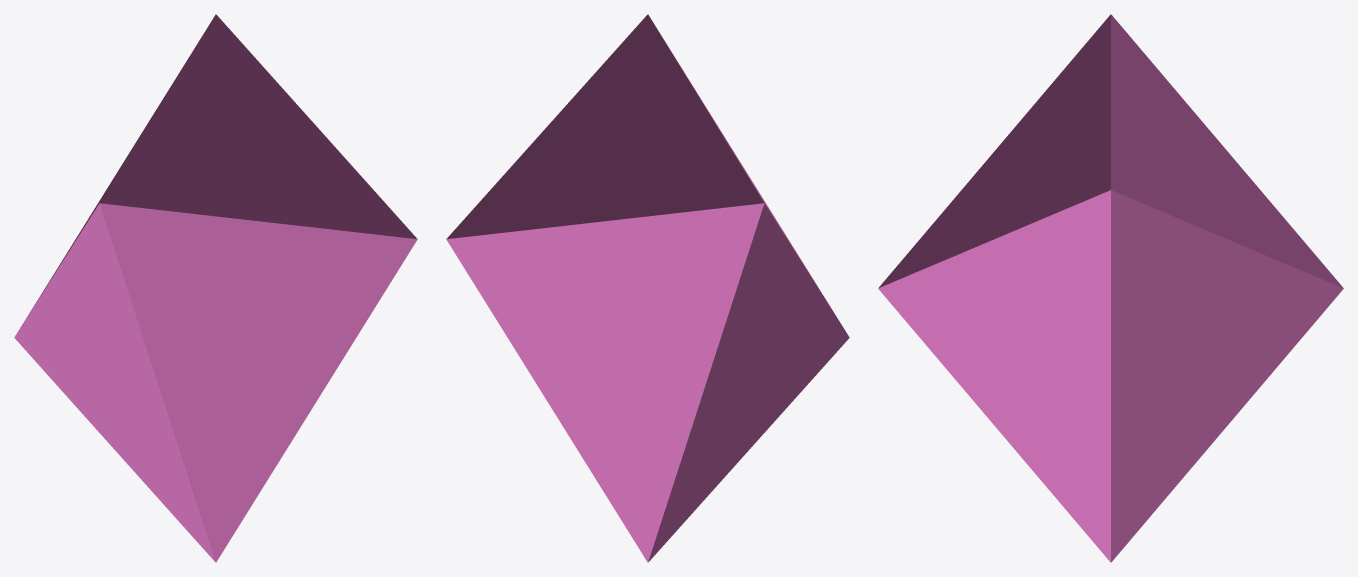
Rendered from pink-tulip.glb.
3 views of the same model, side by side, from view 1: azimuth 30°, elevation 25°; view 2: azimuth 150°, elevation 25°; view 3: azimuth 270°, elevation 25° (orthographic).
Size of the model in its own units: 2 by 2.6 by 2.
